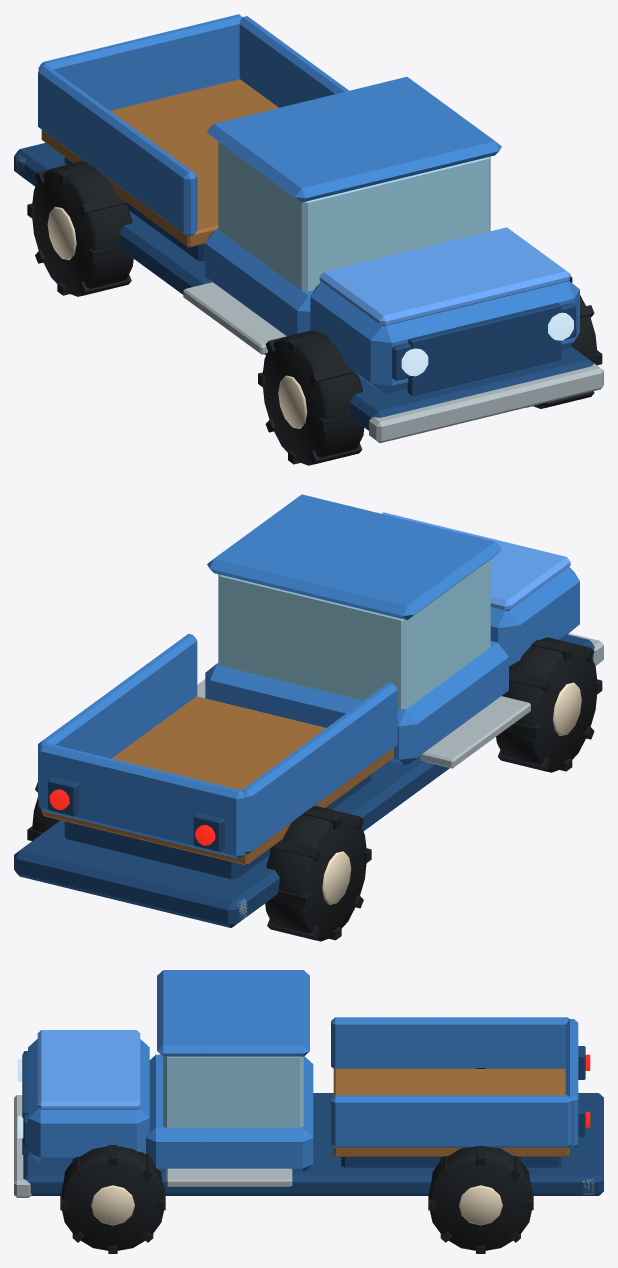
File: FTF_Vehicle_RuralPickup_Blue_5_5m.glb
3 views of the same model, one above another, from view 1: azimuth 30°, elevation 25°; view 2: azimuth 150°, elevation 25°; view 3: azimuth 270°, elevation 25° (orthographic). The views are drawn at different scales.
Parts seen in each view (by area): view 1: FTF_Vehicle_RuralPickup_Blue_5_5m_Static, Wheel_RL_Mesh, Wheel_FL_Mesh, Wheel_FR_Mesh; view 2: FTF_Vehicle_RuralPickup_Blue_5_5m_Static, Wheel_RL_Mesh, Wheel_FL_Mesh, Wheel_RR_Mesh; view 3: FTF_Vehicle_RuralPickup_Blue_5_5m_Static, Wheel_FR_Mesh, Wheel_RR_Mesh.
Boxes of the visible parts, x1,y1,x2,y2 form: FTF_Vehicle_RuralPickup_Blue_5_5m_Static: (14,14,603,443); Wheel_RL_Mesh: (27,161,133,296); Wheel_FL_Mesh: (258,330,364,465); Wheel_FR_Mesh: (526,276,602,408); FTF_Vehicle_RuralPickup_Blue_5_5m_Static: (14,494,603,927); Wheel_RL_Mesh: (265,805,371,941); Wheel_FL_Mesh: (496,637,602,772); Wheel_RR_Mesh: (27,782,59,840); FTF_Vehicle_RuralPickup_Blue_5_5m_Static: (14,970,603,1197); Wheel_FR_Mesh: (60,1145,165,1253); Wheel_RR_Mesh: (428,1146,533,1253).
Size of the model in its own units: 2.45 by 2.02 by 5.63.
